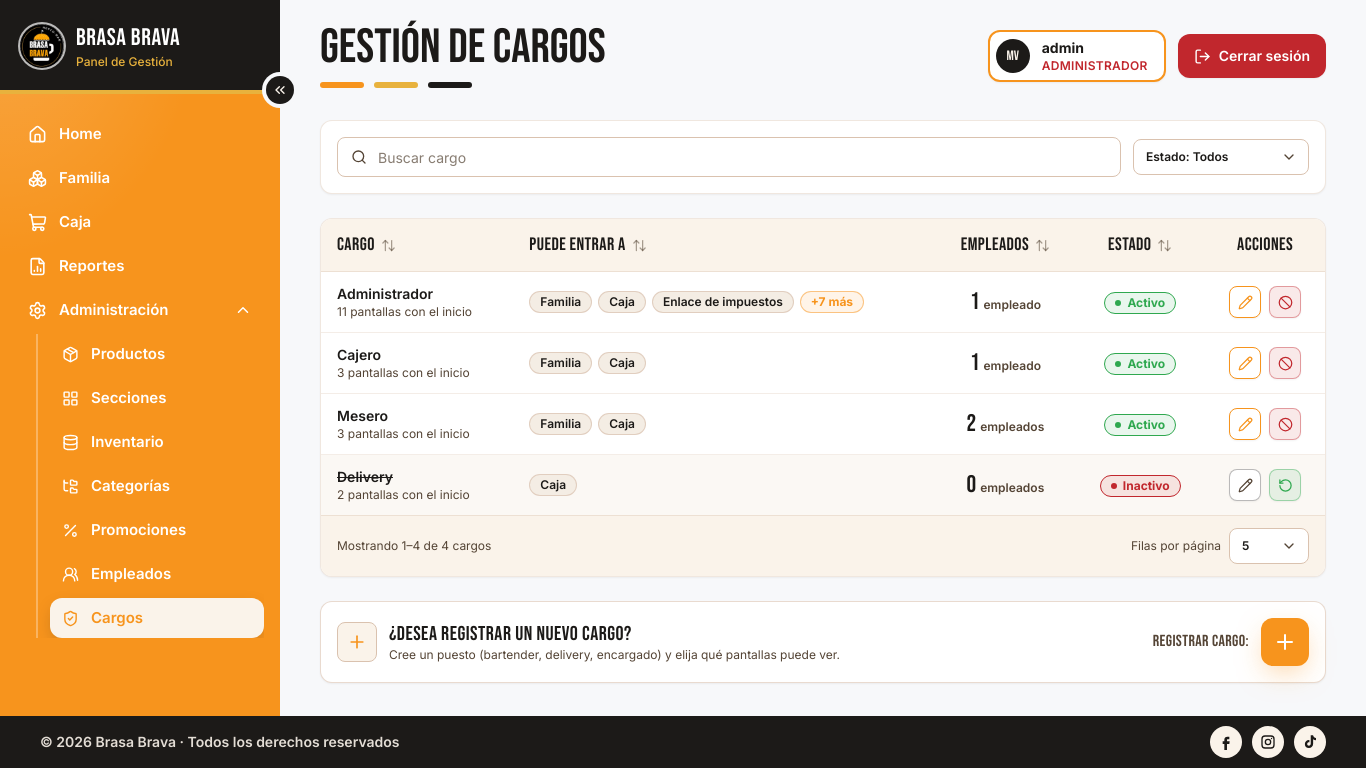
it: Gestión de cargos › modifica un cargo con sus pantallas precargadas y avisa a quiénes afecta
Check: the text "Mesero" is shown, box top-left (337, 407), bottom-right (388, 424)
Click the button named "Modificar Mesero" at (1245, 424), box top-left (1229, 408), bottom-right (1261, 440)
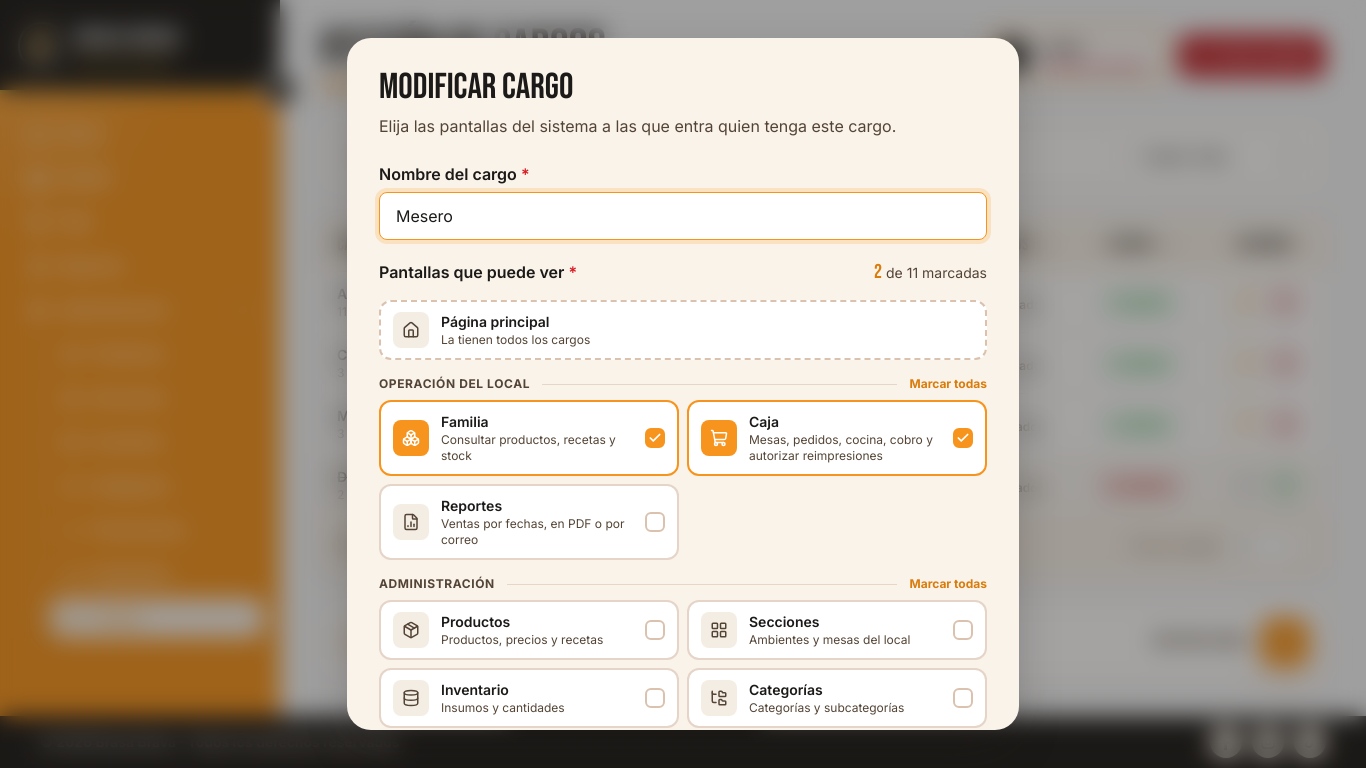
Check: the checkbox labelled "Caja Mesas, pedidos, cocina, cobro y autorizar reimpresiones" is checked, box top-left (687, 400), bottom-right (987, 476)
Click the checkbox labelled "Inventario Insumos y cantidades" at (529, 698), box top-left (379, 668), bottom-right (679, 728)
(page scrolled)
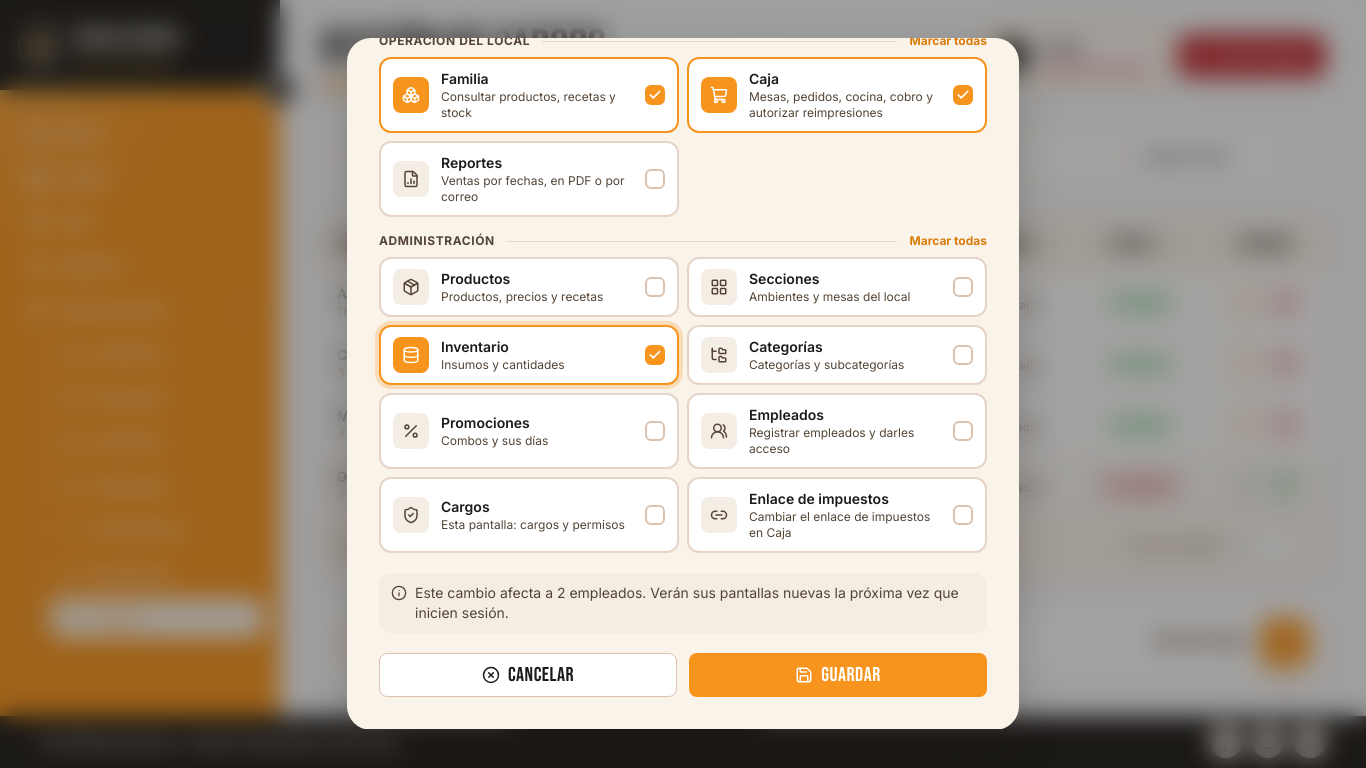
Click the button "Guardar" at (838, 675), box top-left (689, 653), bottom-right (987, 697)
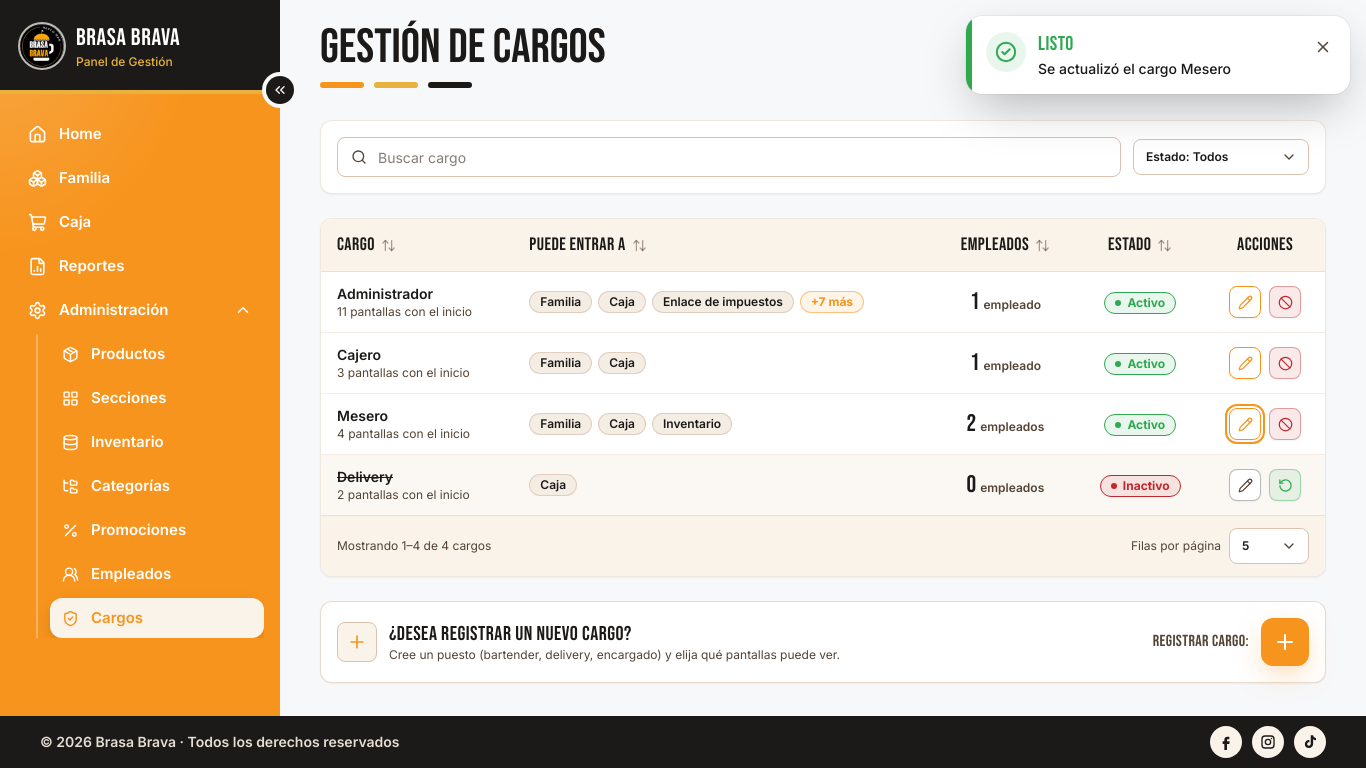
Check: the text "Se actualizó el cargo Mesero" is shown, box top-left (1038, 60), bottom-right (1231, 77)
